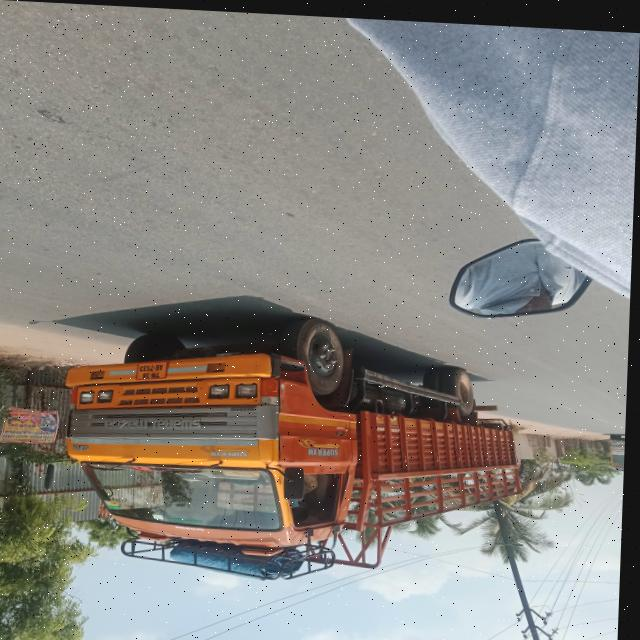plate: (138, 358, 173, 380)
